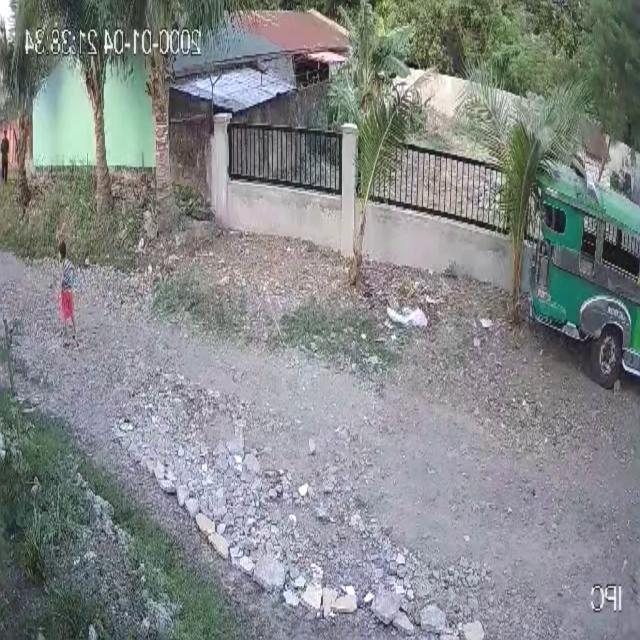walking: (56, 236, 80, 343), (0, 128, 9, 191)
